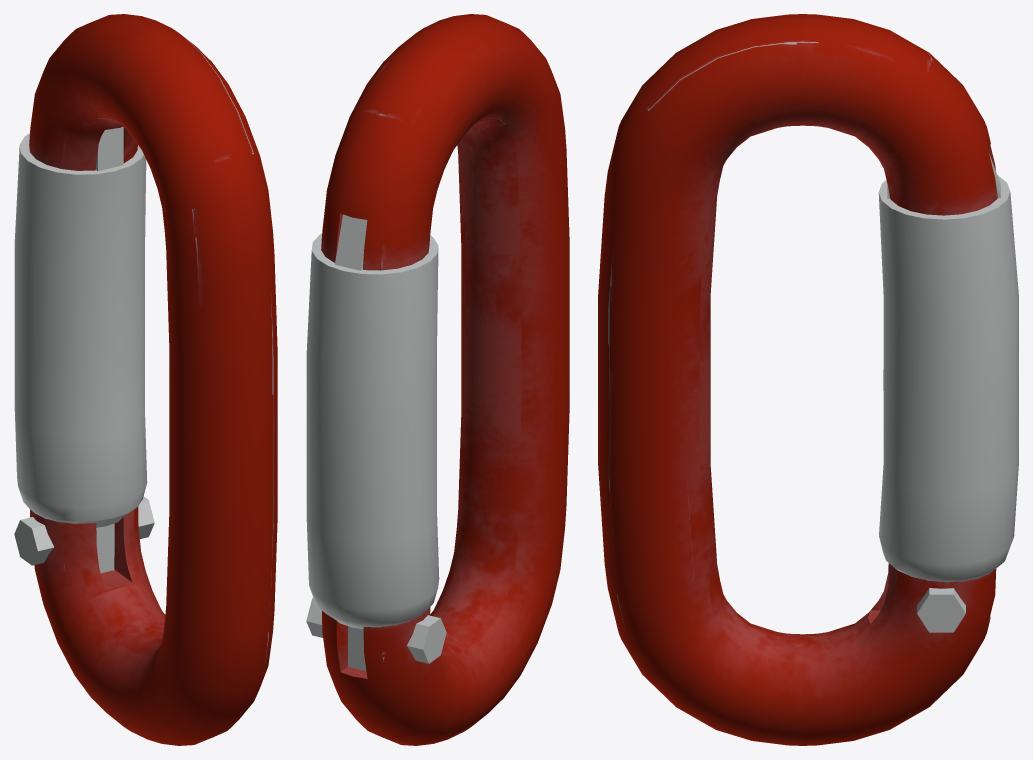
File: Carabiner.fbx
3 views of the same model, side by side, from view 1: azimuth 30°, elevation 25°; view 2: azimuth 150°, elevation 25°; view 3: azimuth 270°, elevation 25° (orthographic). The views are drawn at different scales.
Visible parts, largest first — view 1: Cylinder, Cylinder.001, Cylinder.002; view 2: Cylinder, Cylinder.001, Cylinder.002; view 3: Cylinder, Cylinder.001, Cylinder.002.
Part boxes in pixels (x1,y1,x2,y2): Cylinder: [29, 14, 277, 745]; Cylinder.001: [14, 126, 147, 573]; Cylinder.002: [14, 496, 154, 565]; Cylinder: [321, 14, 569, 745]; Cylinder.001: [306, 214, 439, 670]; Cylinder.002: [306, 598, 446, 663]; Cylinder: [598, 14, 997, 745]; Cylinder.001: [878, 153, 1018, 582]; Cylinder.002: [917, 588, 965, 632].
Size of the model in its own units: 2.47 by 14.15 by 7.47.
Materials: 1 (1 with a texture image).
